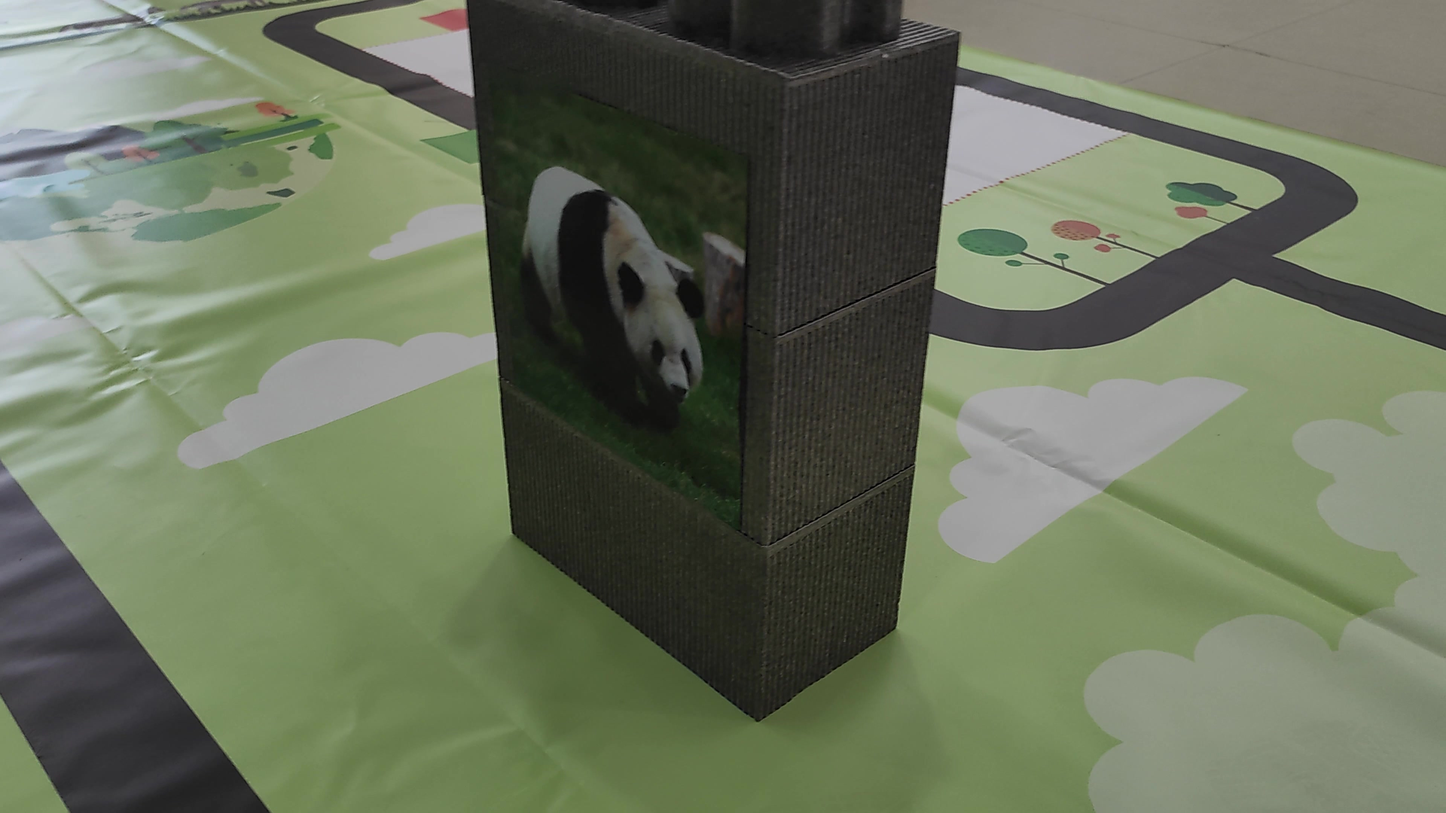panda: (505, 132, 749, 438)
